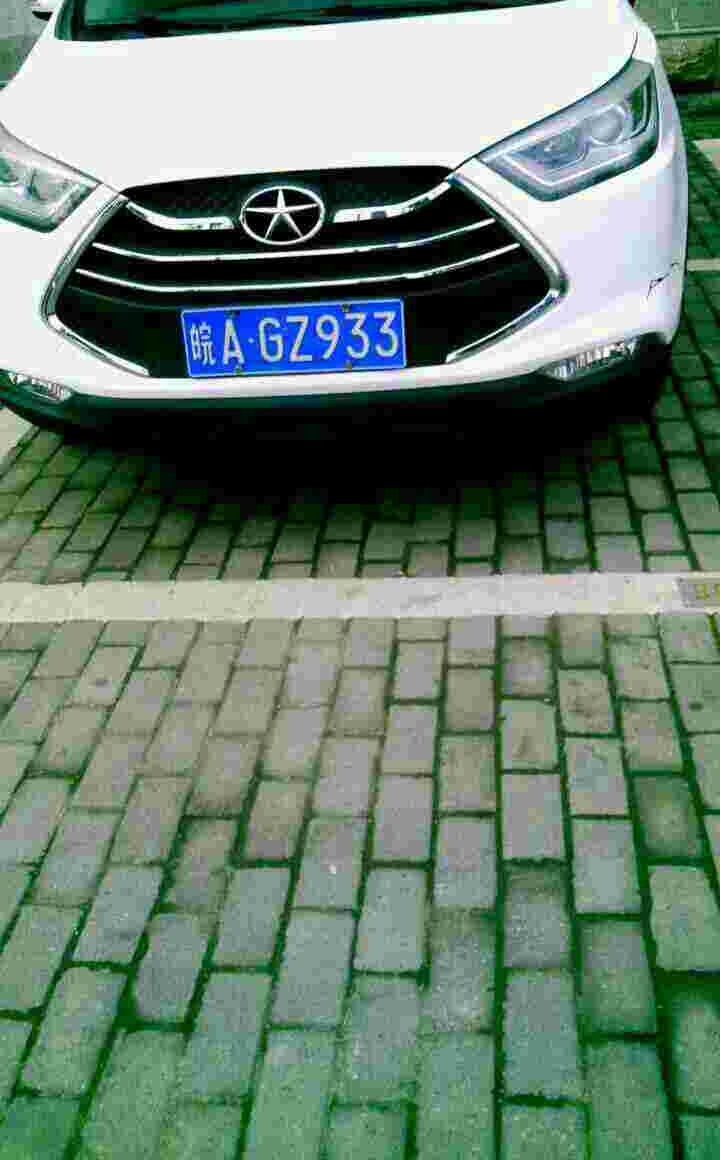plate: (183, 295, 412, 381)
